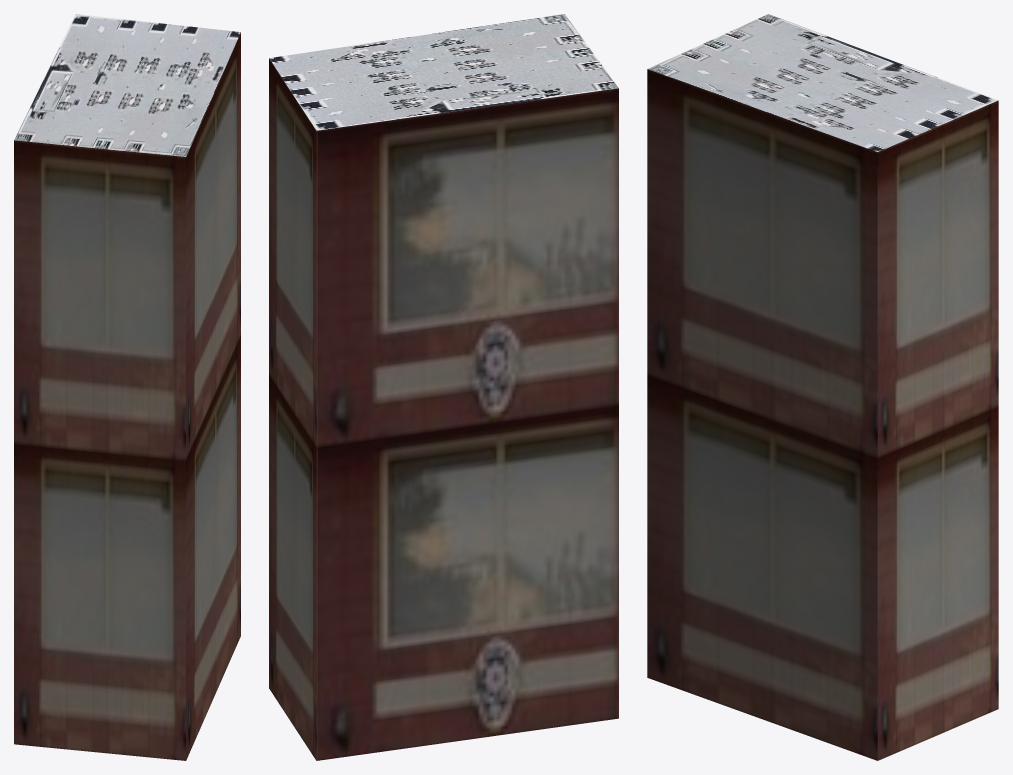
The model's file is ResTex__1830.fbx.
3 views of the same model, side by side, from view 1: azimuth 30°, elevation 25°; view 2: azimuth 150°, elevation 25°; view 3: azimuth 270°, elevation 25° (orthographic). The views are drawn at different scales.
Parts seen in each view (by area): view 1: CityEngineMaterial_13_m, CityEngineMaterial_8_m; view 2: CityEngineMaterial_13_m, CityEngineMaterial_8_m; view 3: CityEngineMaterial_13_m, CityEngineMaterial_8_m.
Part boxes in pixels (x1,y1,x2,y2): CityEngineMaterial_13_m: (14,32,240,760); CityEngineMaterial_8_m: (14,14,240,156); CityEngineMaterial_13_m: (269,58,618,760); CityEngineMaterial_8_m: (269,14,618,130); CityEngineMaterial_13_m: (647,69,998,760); CityEngineMaterial_8_m: (648,14,997,151).
Size of the model in its own units: 2.92 by 6 by 3.14.
Materials: 2 (2 with a texture image).
